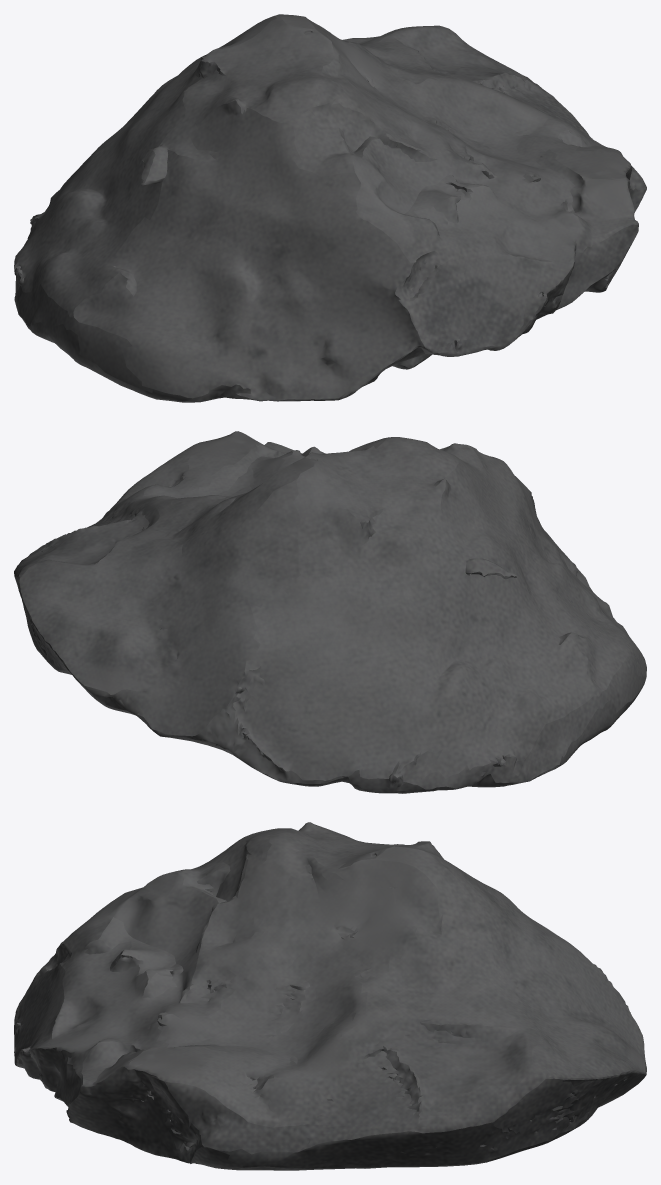
The picture shows the model from 3 angles, top to bottom: view 1: azimuth 30°, elevation 25°; view 2: azimuth 150°, elevation 25°; view 3: azimuth 270°, elevation 25°; orthographic projection. The views are drawn at different scales.
Visible parts, largest first — view 1: world; view 2: world; view 3: world.
Part boxes in pixels (<box>): world: <box>14,14,646,402</box>; world: <box>14,431,646,793</box>; world: <box>14,822,646,1170</box>.
Size of the model in its own units: 2.5 by 1.12 by 2.5.
1 material, 1 textured.
